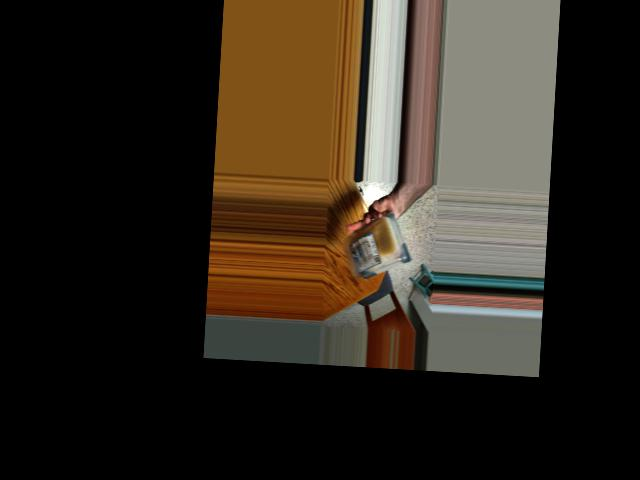cheese: (346, 226, 412, 281)
